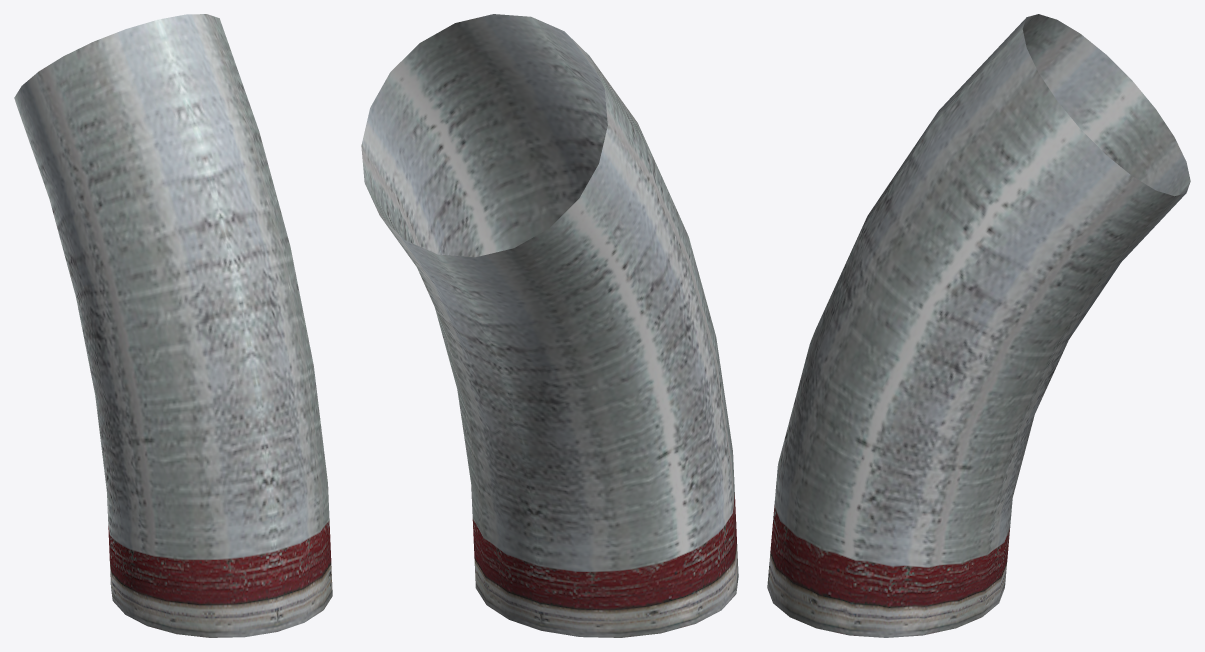
File: Pipe_B_0'5mts_01.fbx
The picture shows the model from 3 angles, left to right: view 1: azimuth 30°, elevation 25°; view 2: azimuth 150°, elevation 25°; view 3: azimuth 270°, elevation 25°; orthographic projection. The views are drawn at different scales.
Visible parts, largest first — view 1: Pipe_B_0'5mts_01; view 2: Pipe_B_0'5mts_01; view 3: Pipe_B_0'5mts_01.
Part boxes in pixels (x1,y1,x2,y2): Pipe_B_0'5mts_01: (14, 14, 332, 637); Pipe_B_0'5mts_01: (361, 14, 738, 637); Pipe_B_0'5mts_01: (767, 14, 1190, 637).
Bounding box in the file's own units: 50.23 × 130 × 89.49.
1 material, 1 textured.
